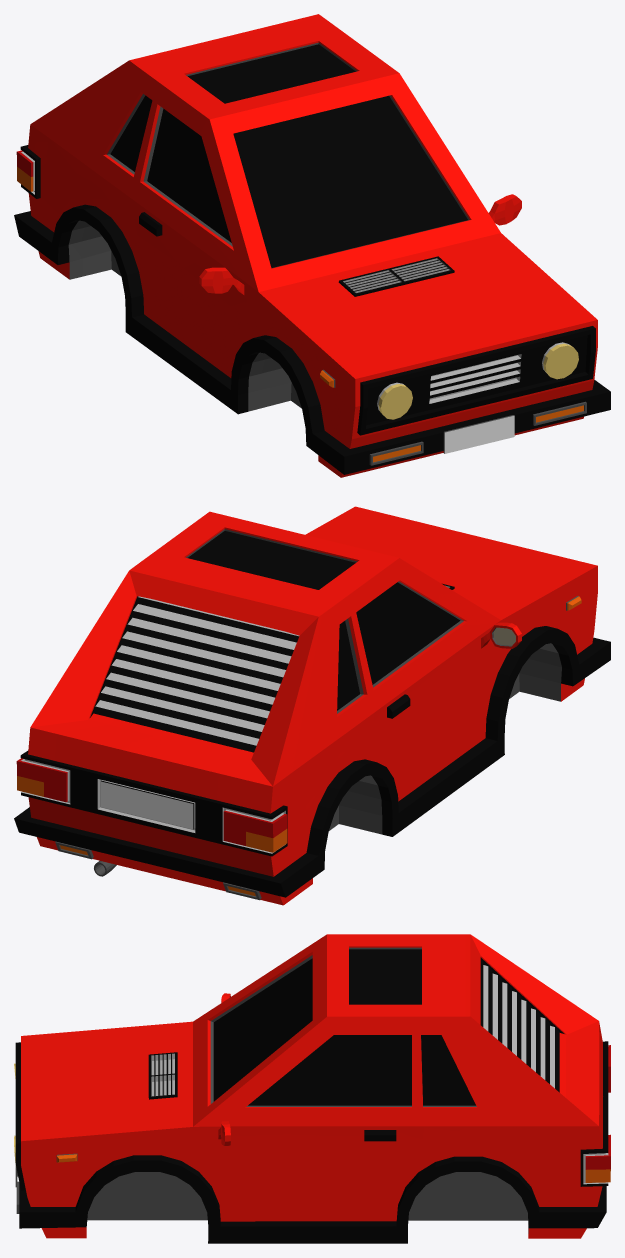
The model's file is SmallCar.fbx.
The picture shows the model from 3 angles, top to bottom: view 1: azimuth 30°, elevation 25°; view 2: azimuth 150°, elevation 25°; view 3: azimuth 270°, elevation 25°; orthographic projection. The views are drawn at different scales.
Visible parts, largest first — view 1: SmallCar.Body.Mesh; view 2: SmallCar.Body.Mesh; view 3: SmallCar.Body.Mesh.
Part boxes in pixels (x1=…): SmallCar.Body.Mesh: x1=14, y1=14, x2=610, y2=477; SmallCar.Body.Mesh: x1=14, y1=506, x2=610, y2=905; SmallCar.Body.Mesh: x1=14, y1=934, x2=610, y2=1243.
Size of the model in its own units: 0.8453 by 0.636 by 1.53.
